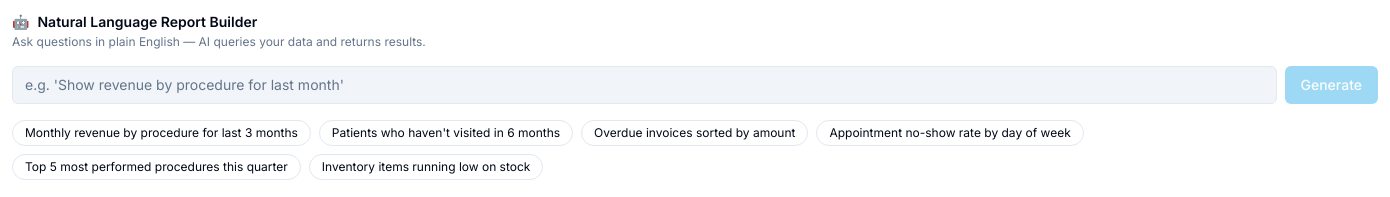
Test case: ReportBuilder › sets query when example chip is clicked
Click the button "Overdue invoices sorted by amount": click(695, 133) x1=581 y1=120 x2=808 y2=146
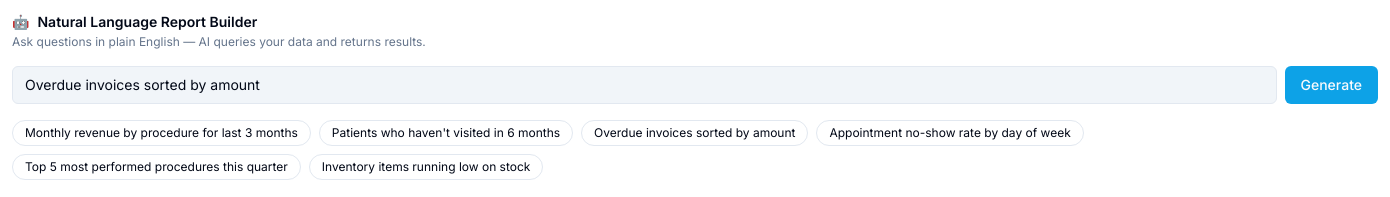
Expected: the field with placeholder "e.g. 'Show revenue by procedure for last month'" holds "Overdue invoices sorted by amount", x1=12 y1=66 x2=1276 y2=104
